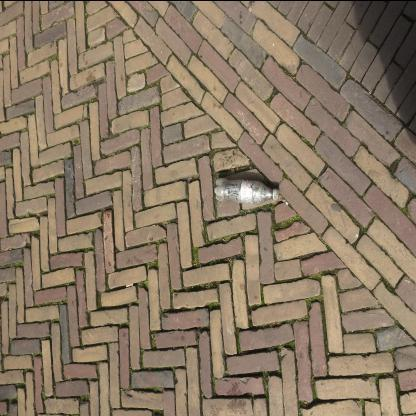plastik: (216, 177, 281, 205)
